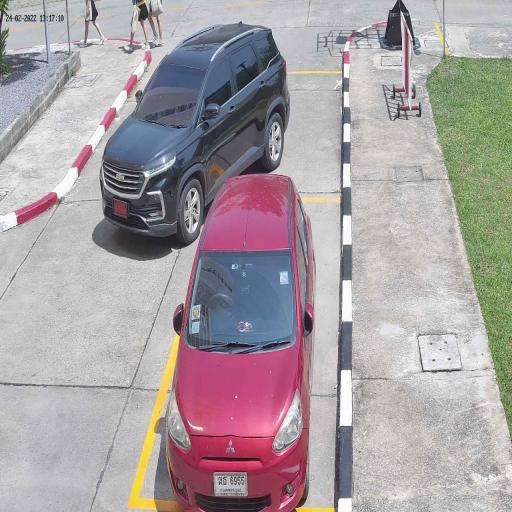car: (166, 173, 314, 512), (99, 22, 291, 242)
